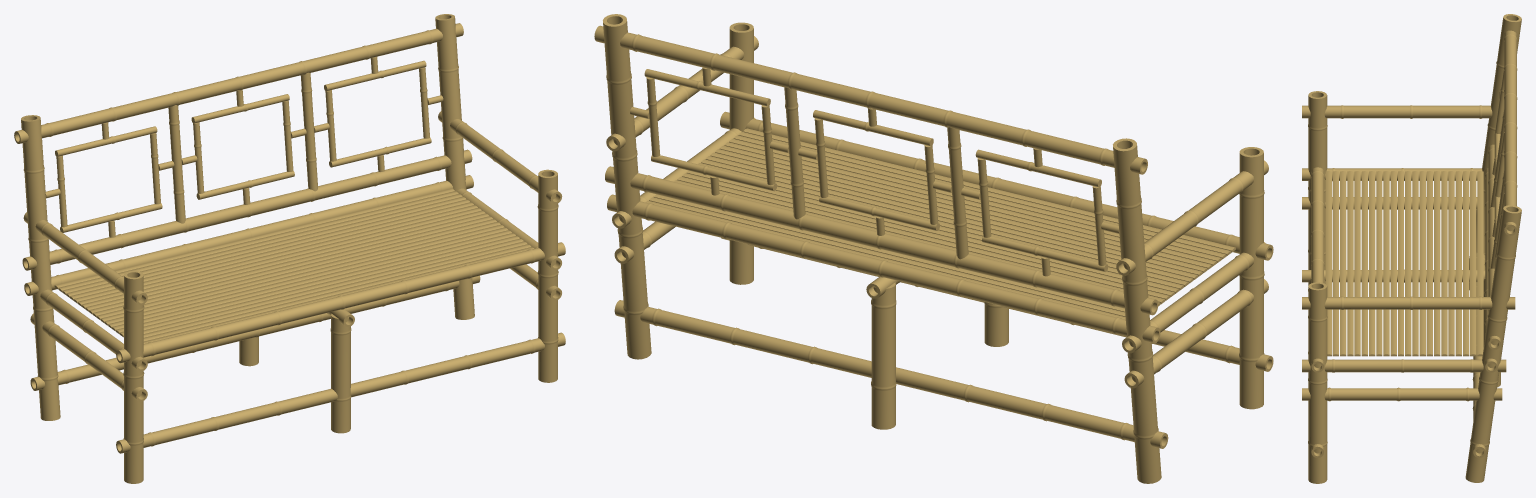
File: ghe_bang_tre.glb
3 renders of one model, left to right at view 1: azimuth 30°, elevation 25°; view 2: azimuth 150°, elevation 25°; view 3: azimuth 270°, elevation 25°, orthographic. The views are drawn at different scales.
Visible parts, largest first — view 1: ghe_bang_tre; view 2: ghe_bang_tre; view 3: ghe_bang_tre.
Part boxes in pixels (x1,y1,x2,y2): ghe_bang_tre: [14, 14, 565, 483]; ghe_bang_tre: [594, 14, 1273, 483]; ghe_bang_tre: [1302, 14, 1521, 483].
Bounding box in the file's own units: 1.54 × 0.9538 × 0.6998.
